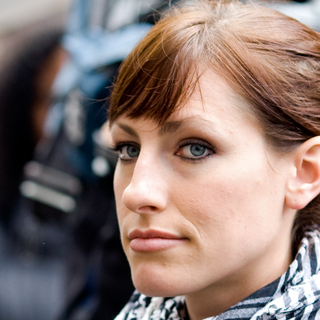eye: (173, 135, 221, 164), (114, 140, 143, 162)
